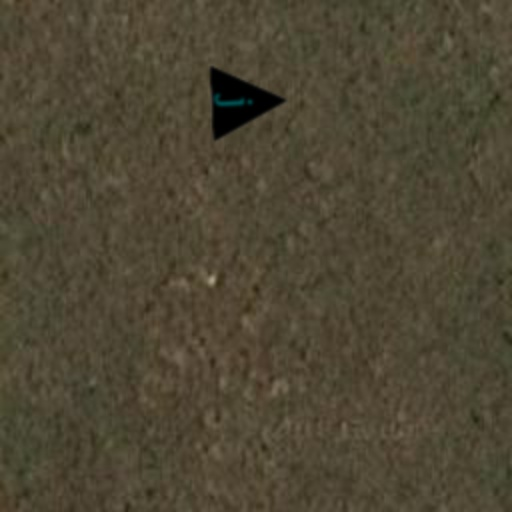triangle: (208, 60, 292, 144)
